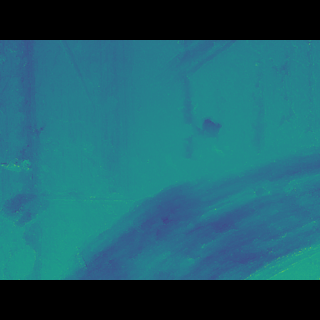Loch: (41, 136, 320, 250), (140, 69, 245, 113), (55, 69, 98, 125)
